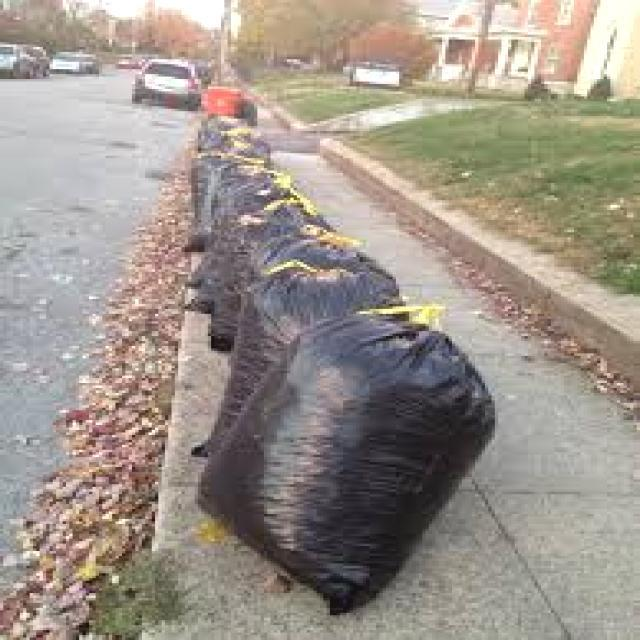high trash: (190, 88, 494, 612)
